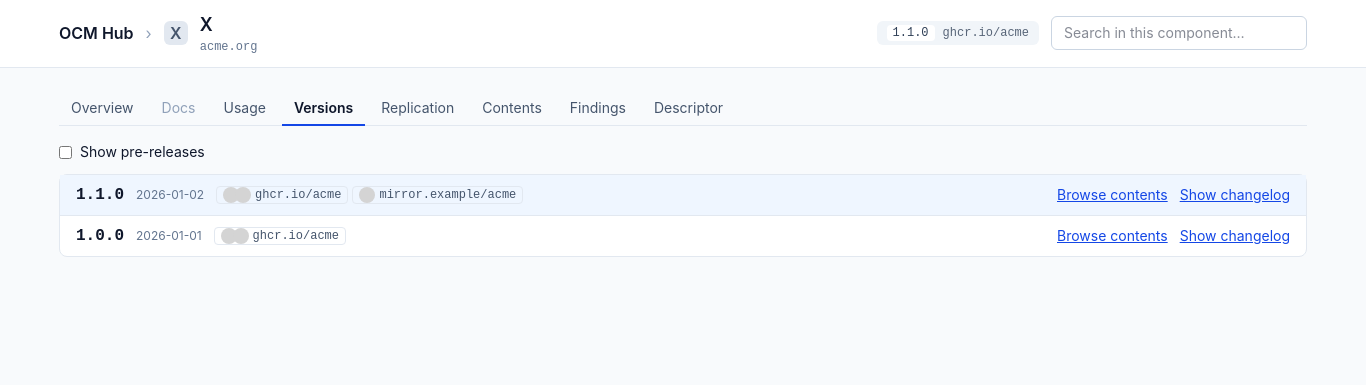
Scenario: the locations block moved from Versions to the Replication tab
This screenshot has width=1366, height=385.
Expected: the element "Locations" is not shown
Click the tab "Replication" at (418, 109), box [369, 92, 466, 126]
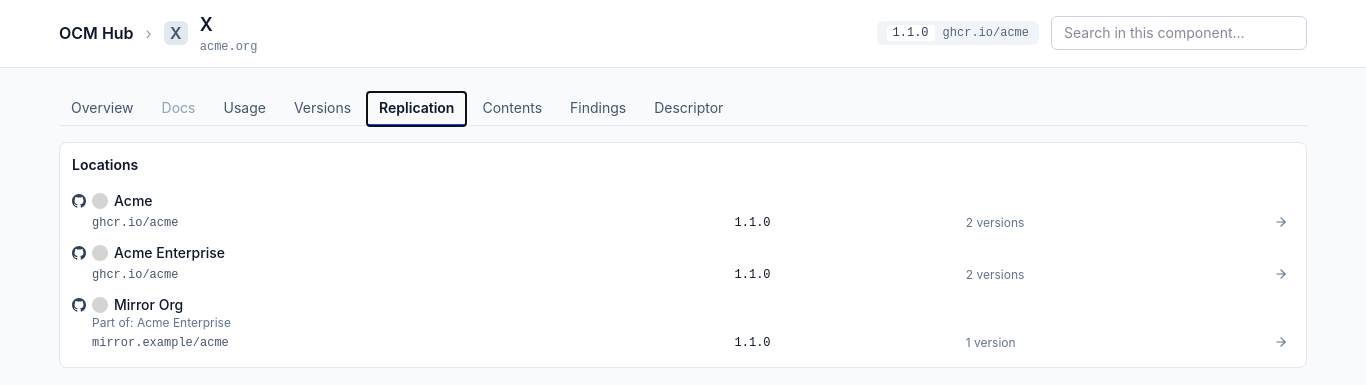
Now the element "Locations" is shown, box [59, 142, 1307, 368]
